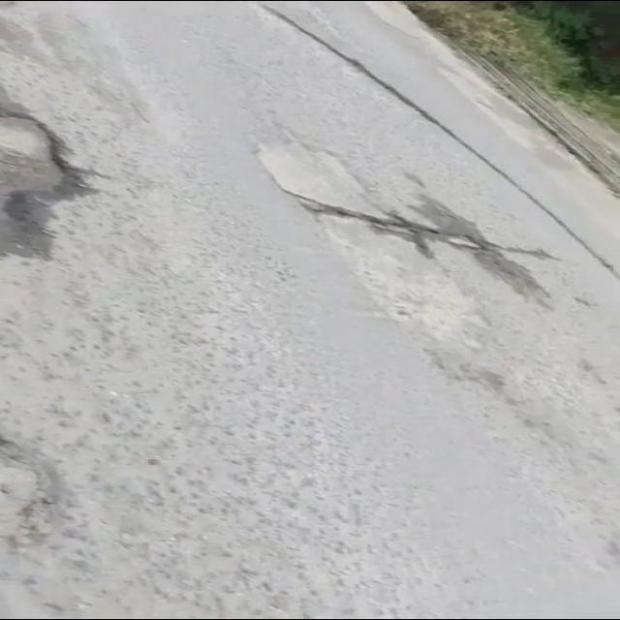lubang: (282, 189, 559, 260), (0, 104, 104, 256)
